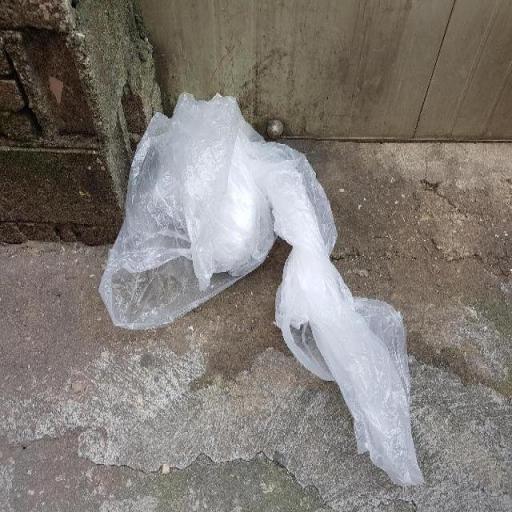plastic-bag: (94, 89, 428, 490)
